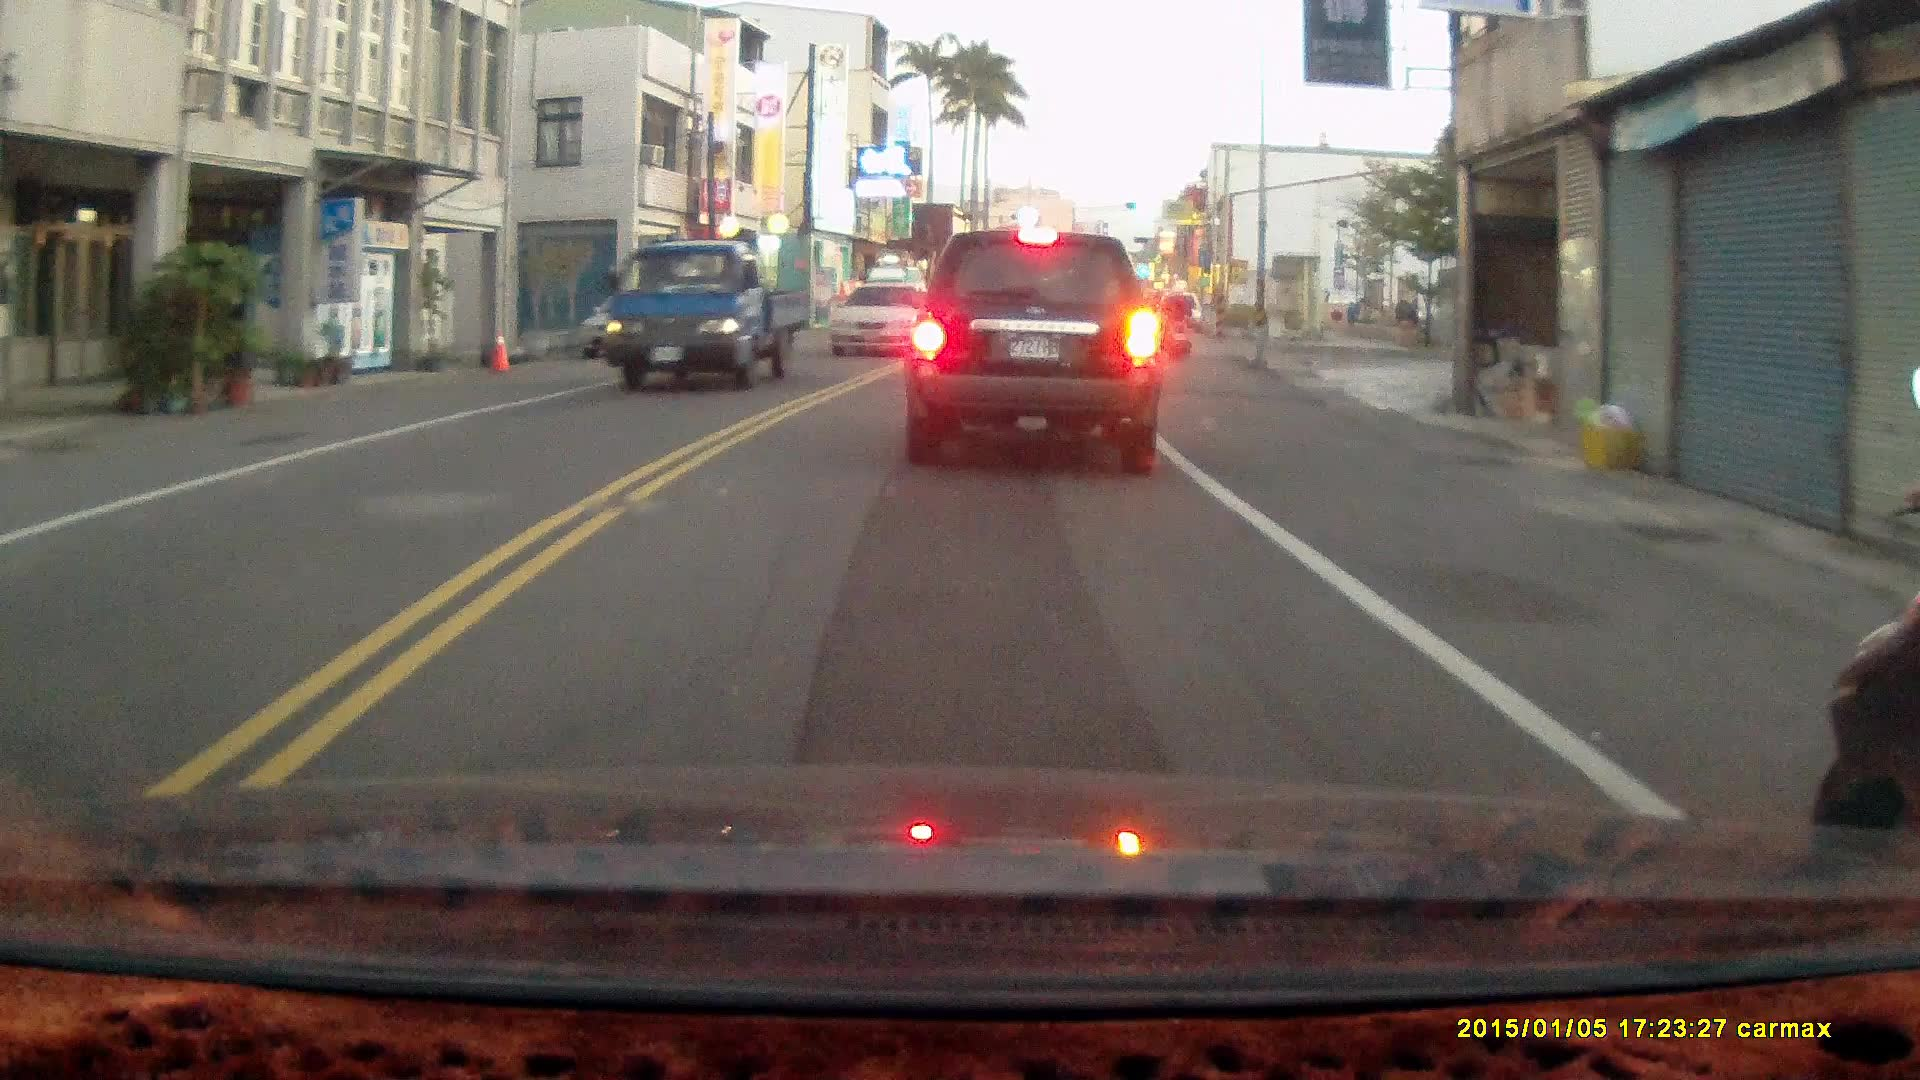rider: (1160, 281, 1191, 364)
vehicle: (904, 230, 1167, 476), (592, 234, 813, 390), (832, 282, 942, 361)
